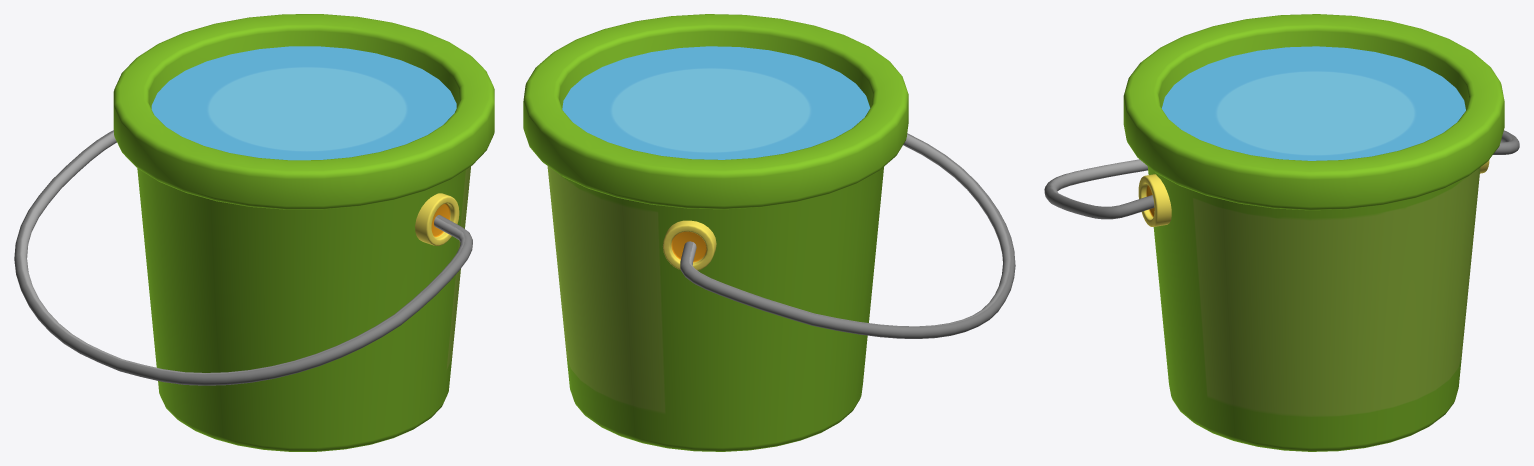
The model's file is cartoon_water_bucket.fbx.
3 renders of one model, left to right at view 1: azimuth 30°, elevation 25°; view 2: azimuth 150°, elevation 25°; view 3: azimuth 270°, elevation 25°, orthographic.
Visible parts, largest first — view 1: cartoon water bucket; view 2: cartoon water bucket; view 3: cartoon water bucket.
Boxes of the visible parts, x1,y1,x2,y2 form: cartoon water bucket: [14, 14, 494, 451]; cartoon water bucket: [523, 14, 1015, 451]; cartoon water bucket: [1044, 14, 1519, 451].
Bounding box in the file's own units: 577 × 389 × 558.
